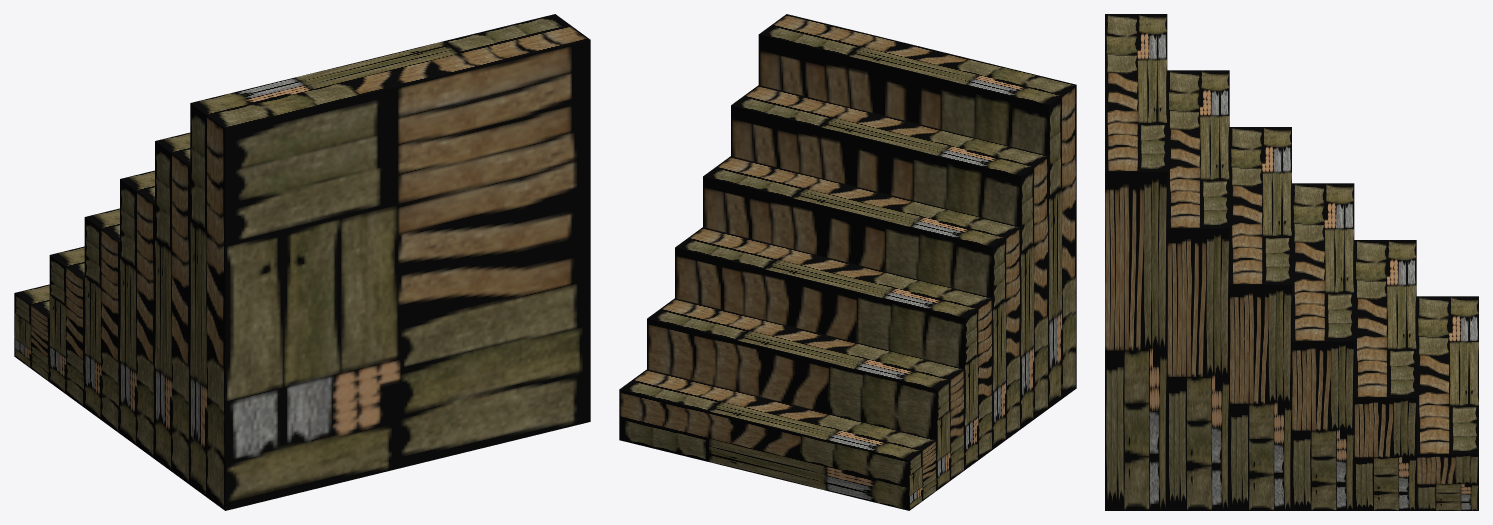
Rendered from stairs.obj.
The picture shows the model from 3 angles, left to right: view 1: azimuth 30°, elevation 25°; view 2: azimuth 150°, elevation 25°; view 3: azimuth 270°, elevation 25°; orthographic projection. The views are drawn at different scales.
Visible parts, largest first — view 1: stairs; view 2: stairs; view 3: stairs.
Part boxes in pixels (left/top/right/bottom): stairs: left=14, top=14, right=590, bottom=510; stairs: left=619, top=14, right=1076, bottom=510; stairs: left=1105, top=14, right=1478, bottom=510.
Size of the model in its own units: 1 by 1 by 1.
1 material, 1 textured.
